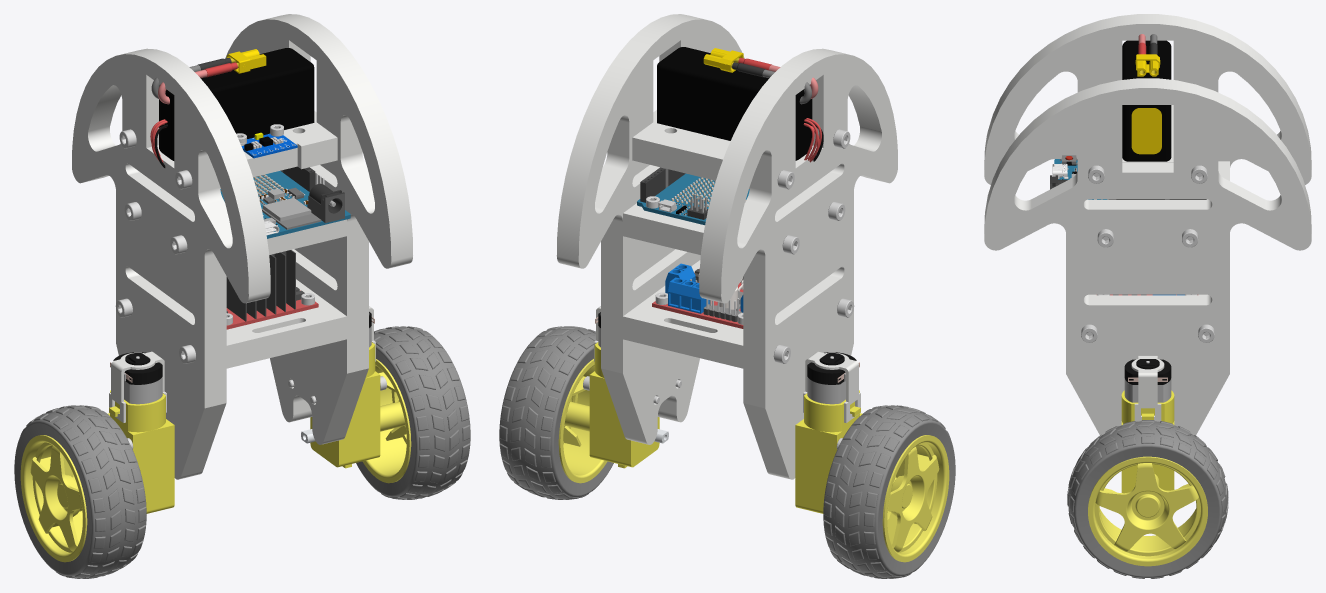
Rendered from robot.glb.
3 views of the same model, side by side, from view 1: azimuth 30°, elevation 25°; view 2: azimuth 150°, elevation 25°; view 3: azimuth 270°, elevation 25° (orthographic). The views are drawn at different scales.
Parts seen in each view (by area): view 1: Side Chassis-2 geom, Side Chassis-1 geom, Wheel D65x25-2 geom, Wheel D65x25-1 geom, eBom-FreeParts.step-1 geom, Platform 1 (L298N)-1 geom, Motor Casing.step-1 geom, Motor Casing_1.step-1 geom, L298N Motor Driver-1 geom, Platform 3 (MPU, LIPO)-1 geom, Driving Motor.step-1 geom, Platform 2 (Arduino)-1 geom (+6 smaller); view 2: Side Chassis-2 geom, Side Chassis-1 geom, Wheel D65x25-2 geom, Wheel D65x25-1 geom, eBom-FreeParts.step-1 geom, Platform 1 (L298N)-1 geom, Motor Casing.step-1 geom, Platform 3 (MPU, LIPO)-1 geom, Motor Casing_1.step-1 geom, L298N Motor Driver-1 geom, Platform 2 (Arduino)-1 geom, Driving Motor.step-1 geom (+4 smaller); view 3: Side Chassis-1 geom, Wheel D65x25-1 geom, Side Chassis-2 geom, eBom-FreeParts.step-1 geom, Motor Casing_1.step-1 geom, Driving Motor_1.step-1 geom, Fasteners_1.step-1 geom, GNB-650-4S-120A-HV 70g.step-1/XT30 Wire.step-1/XT30 Wire-0.s.
Boxes of the visible parts, left/top/right/bottom form: Side Chassis-2 geom: left=72, top=48, right=270, bottom=479; Side Chassis-1 geom: left=225, top=14, right=412, bottom=444; Wheel D65x25-2 geom: left=14, top=405, right=146, bottom=578; Wheel D65x25-1 geom: left=356, top=326, right=470, bottom=499; eBom-FreeParts.step-1 geom: left=159, top=48, right=314, bottom=160; Platform 1 (L298N)-1 geom: left=226, top=279, right=346, bottom=368; Motor Casing.step-1 geom: left=107, top=390, right=174, bottom=513; Motor Casing_1.step-1 geom: left=310, top=342, right=380, bottom=468; L298N Motor Driver-1 geom: left=226, top=250, right=318, bottom=329; Platform 3 (MPU, LIPO)-1 geom: left=220, top=122, right=337, bottom=188; Driving Motor.step-1 geom: left=110, top=352, right=162, bottom=404; Platform 2 (Arduino)-1 geom: left=267, top=219, right=346, bottom=254; Side Chassis-2 geom: left=699, top=48, right=897, bottom=479; Side Chassis-1 geom: left=556, top=14, right=744, bottom=444; Wheel D65x25-2 geom: left=823, top=405, right=955, bottom=578; Wheel D65x25-1 geom: left=499, top=326, right=613, bottom=499; eBom-FreeParts.step-1 geom: left=657, top=47, right=812, bottom=160; Platform 1 (L298N)-1 geom: left=623, top=260, right=743, bottom=368; Motor Casing.step-1 geom: left=795, top=390, right=862, bottom=513; Platform 3 (MPU, LIPO)-1 geom: left=632, top=122, right=749, bottom=188; Motor Casing_1.step-1 geom: left=589, top=342, right=659, bottom=468; L298N Motor Driver-1 geom: left=652, top=263, right=743, bottom=328; Platform 2 (Arduino)-1 geom: left=623, top=203, right=704, bottom=254; Driving Motor.step-1 geom: left=807, top=352, right=859, bottom=404; Side Chassis-1 geom: left=984, top=78, right=1311, bottom=435; Wheel D65x25-1 geom: left=1067, top=420, right=1228, bottom=578; Side Chassis-2 geom: left=984, top=14, right=1311, bottom=184; eBom-FreeParts.step-1 geom: left=1122, top=40, right=1171, bottom=161; Motor Casing_1.step-1 geom: left=1121, top=390, right=1174, bottom=493; Driving Motor_1.step-1 geom: left=1124, top=359, right=1171, bottom=402; Fasteners_1.step-1 geom: left=1131, top=355, right=1164, bottom=421; GNB-650-4S-120A-HV 70g.step-1/XT30 Wire.step-1/XT30 Wire-0.s: left=1135, top=54, right=1160, bottom=76.
Size of the model in its own units: 0.1729 by 0.2114 by 0.14.
